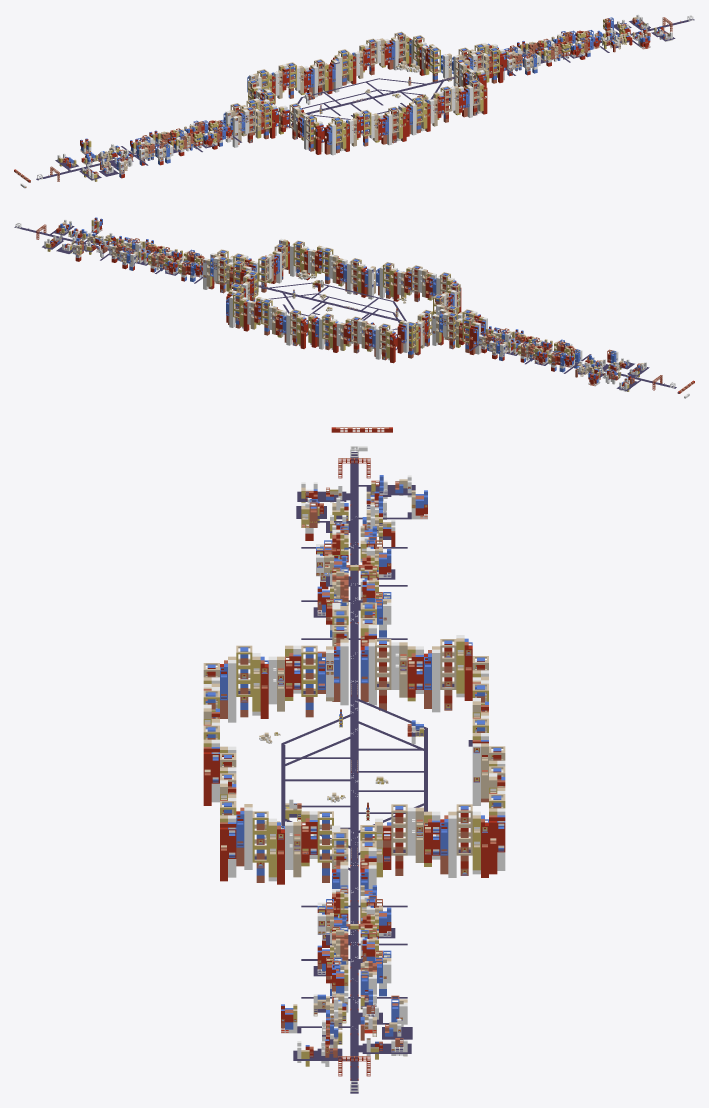
The model's file is HighRoller2.FBX.
The picture shows the model from 3 angles, top to bottom: view 1: azimuth 30°, elevation 25°; view 2: azimuth 150°, elevation 25°; view 3: azimuth 270°, elevation 25°; orthographic projection. The views are drawn at different scales.
Parts seen in each view (by area): view 1: Park_02, Park_01, Block_high01, block_start, Park_rp_01, Block_end, Park_rp_02, Block_mid02, Block_mid04, Block_high_02, Block_mid01, Block_mid03; view 2: Park_02, Park_01, Block_high01, Park_rp_02, Block_end, block_start, Park_rp_01, Block_high_02, Block_mid02, Block_mid04, Block_mid01, Block_mid03; view 3: Park_02, Park_01, Block_end, block_start, Block_mid04, Block_high01, Park_rp_01, Block_mid02, Block_mid01, Block_mid03, Block_high_02, Park_rp_02.
Boxes of the visible parts, <box> form: Park_02: <box>352,31,487,131</box>; Park_01: <box>247,62,385,155</box>; Block_high01: <box>223,98,278,147</box>; block_start: <box>36,138,148,181</box>; Park_rp_01: <box>314,59,406,145</box>; Block_end: <box>596,14,694,52</box>; Park_rp_02: <box>331,49,423,136</box>; Block_mid02: <box>169,119,232,156</box>; Block_mid04: <box>537,30,600,66</box>; Block_high_02: <box>452,42,515,86</box>; Block_mid01: <box>130,130,180,165</box>; Block_mid03: <box>504,41,548,76</box>; Park_02: <box>226,238,353,337</box>; Park_01: <box>329,265,461,363</box>; Block_high01: <box>432,305,487,354</box>; Park_rp_02: <box>282,258,375,348</box>; Block_end: <box>14,217,115,261</box>; block_start: <box>563,349,676,391</box>; Park_rp_01: <box>308,262,399,350</box>; Block_high_02: <box>194,249,258,293</box>; Block_mid02: <box>478,326,542,362</box>; Block_mid04: <box>109,236,173,272</box>; Block_mid01: <box>525,339,582,372</box>; Block_mid03: <box>155,249,204,282</box>; Park_02: <box>220,766,505,884</box>; Park_01: <box>203,635,488,772</box>; Block_end: <box>281,989,412,1093</box>; block_start: <box>296,446,427,548</box>; Block_mid04: <box>301,923,391,1002</box>; Block_high01: <box>301,602,407,705</box>; Park_rp_01: <box>203,718,488,805</box>; Block_mid02: <box>301,564,391,638</box>; Block_mid01: <box>316,526,407,589</box>; Block_mid03: <box>317,885,407,947</box>; Block_high_02: <box>301,825,407,923</box>; Park_rp_02: <box>220,746,505,820</box>.
Bounding box in the file's own units: 379427 × 22000 × 74003.
